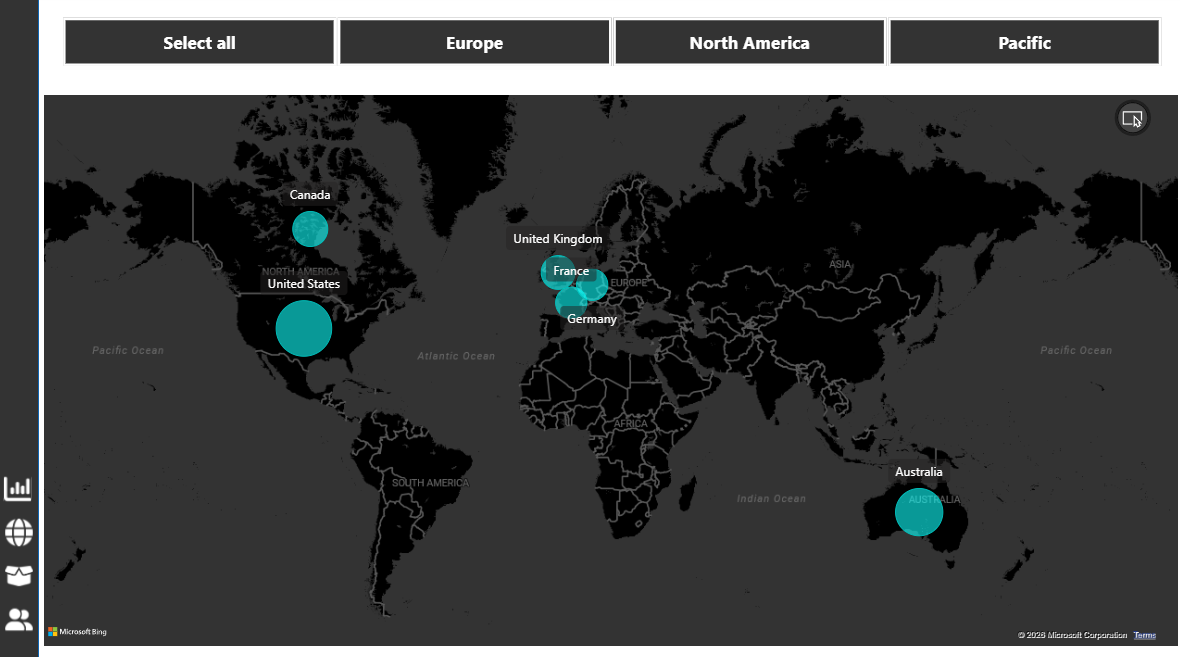

The dashboard page shown, as its layout file describes it:
{"tool":"powerbi","page":{"name":"Map","canvas":[1280,720],"ordinal":1},"visuals":[{"type":"shape","box":[0,0,45.3,720.6],"z":0},{"type":"actionButton","box":[2.5,516.7,45.6,37.8],"z":0,"group":"g1"},{"type":"map","fields":{"Category":["Territory Lookup.Country"],"Size":["Measure Table.Total Orders"]},"box":[45.3,105.2,1235.5,604],"z":1000},{"type":"actionButton","box":[3.3,563.4,45.6,37.8],"z":1000,"group":"g1"},{"type":"slicer","fields":{"Values":["Territory Lookup.Continent"]},"box":[45.3,19.4,1235.5,66.4],"z":2000},{"type":"actionButton","box":[3.3,611.1,45.6,37.8],"z":2000,"group":"g1"},{"type":"group","id":"g1","title":"Navigation Buttons","box":[2.5,516.7,46.4,178.9],"z":3000},{"type":"actionButton","box":[3.3,657.8,45.6,37.8],"z":3000,"group":"g1"}]}

Visuals, with their boxes on the page's 1280x720 design canvas (x1, y1, x2, y2). These are canvas units, not pixel positions in the 1180x657 screenshot, which may show the page scaled, cropped or inside an application window:
shape: l=0, t=0, r=45, b=721
actionButton: l=2, t=517, r=48, b=554
map - Territory Lookup.Country x Measure Table.Total Orders: l=45, t=105, r=1281, b=709
actionButton: l=3, t=563, r=49, b=601
slicer - Territory Lookup.Continent: l=45, t=19, r=1281, b=86
actionButton: l=3, t=611, r=49, b=649
"Navigation Buttons" group: l=2, t=517, r=49, b=696
actionButton: l=3, t=658, r=49, b=696
